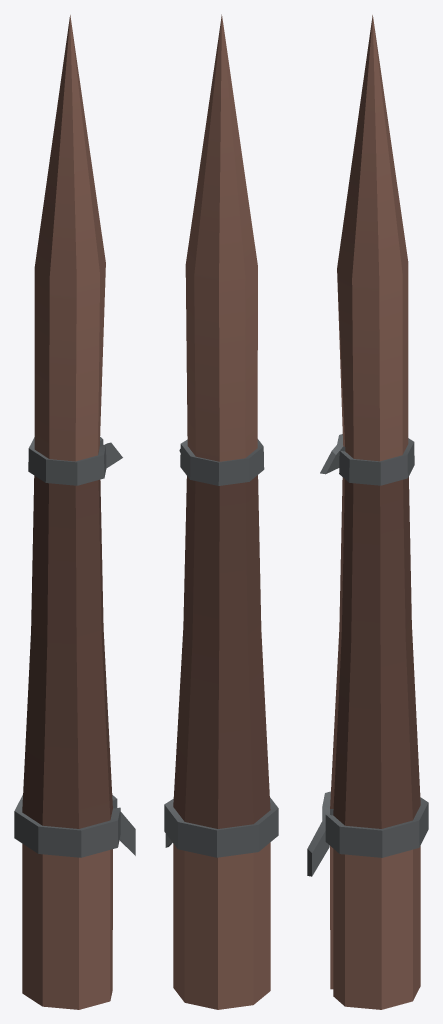
Rendered from SM_Spikes_03.fbx.
3 renders of one model, left to right at view 1: azimuth 90°, elevation 25°; view 2: azimuth 210°, elevation 25°; view 3: azimuth 270°, elevation 25°, orthographic.
Visible parts, largest first — view 1: Spikes_03; view 2: Spikes_03; view 3: Spikes_03.
Boxes of the visible parts, <box> form: Spikes_03: <box>14,15,135,1009</box>; Spikes_03: <box>164,14,278,1009</box>; Spikes_03: <box>307,15,428,1009</box>.
Bounding box in the file's own units: 13.1 × 125 × 14.06.
